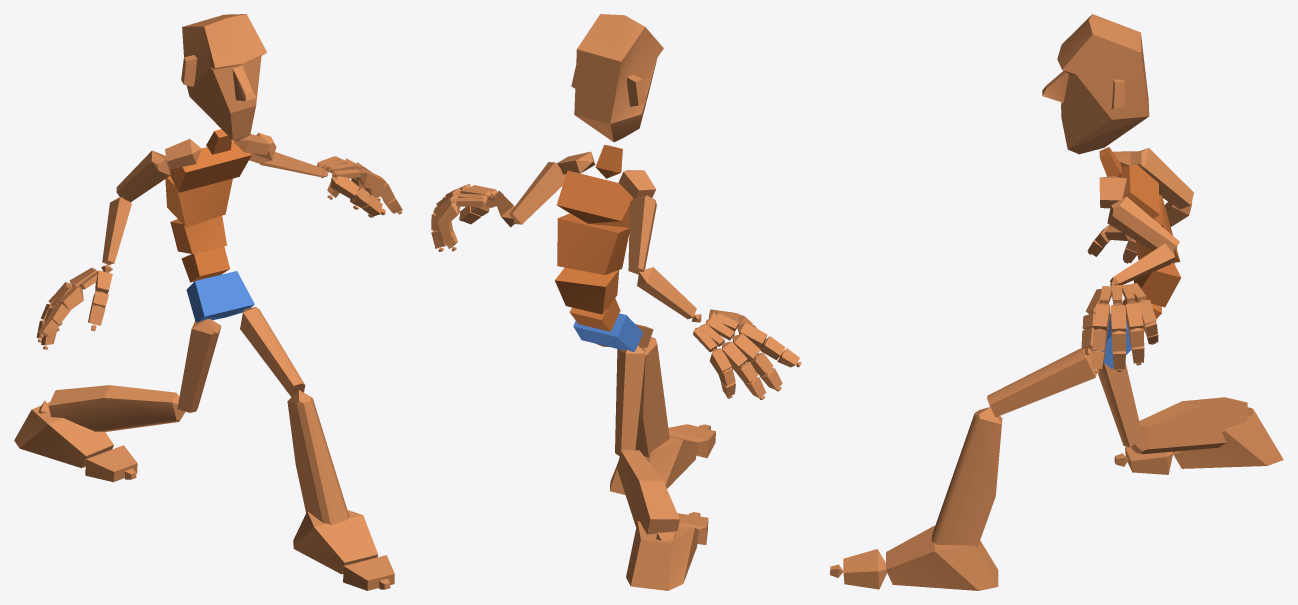
The picture shows the model from 3 angles, left to right: view 1: azimuth 30°, elevation 25°; view 2: azimuth 150°, elevation 25°; view 3: azimuth 270°, elevation 25°; orthographic projection. The views are drawn at different scales.
Parts seen in each view (by area): view 1: BOPED_Head, BOPED_R_leg, BOPED_L_leg, BOPED_R_foot, BOPED_R_foot01, Bone01, BOPED_R_legup, BOPED_L_legup, Bone04, Bone05, Bone03, BOPED_R_arm_upper (+7 smaller); view 2: BOPED_Head, BOPED_R_foot, Bone04, BOPED_R_leg, Bone05, BOPED_L_leg, BOPED_R_legup, Bone03, BOPED_R_foot01, BOPED_R_arm_upper, BOPED_L_arm_upper, Bone01 (+7 smaller); view 3: BOPED_Head, BOPED_L_leg, BOPED_R_foot01, BOPED_R_leg, BOPED_L_legup, BOPED_R_foot, BOPED_R_legup, BOPED_L_arm_upper, BOPED_R_arm_upper, BOPED_R_foot_toe04, Bone05, Bone03 (+3 smaller).
Boxes of the visible parts, x1,y1,x2,y2 form: BOPED_Head: (181,14,266,141); BOPED_R_leg: (48,385,185,431); BOPED_L_leg: (287,390,349,524); BOPED_R_foot: (14,402,113,468); BOPED_R_foot01: (293,510,378,574); Bone01: (186,271,254,322); BOPED_R_legup: (177,319,221,412); BOPED_L_legup: (240,307,305,397); Bone04: (165,176,232,227); Bone05: (170,140,251,192); Bone03: (170,216,226,253); BOPED_R_arm_upper: (116,150,170,202); BOPED_Head: (571,14,663,142); BOPED_R_foot: (626,521,698,590); Bone04: (557,213,629,274); BOPED_R_leg: (617,450,679,534); Bone05: (556,170,635,227); BOPED_L_leg: (635,337,669,457); BOPED_R_legup: (615,345,645,455); Bone03: (555,267,619,314); BOPED_R_foot01: (610,435,698,494); BOPED_R_arm_upper: (628,195,656,274); BOPED_L_arm_upper: (509,162,566,224); Bone01: (573,313,643,352); BOPED_Head: (1042,14,1149,154); BOPED_L_leg: (931,407,1002,548); BOPED_R_foot01: (886,525,998,590); BOPED_R_leg: (1131,397,1247,454); BOPED_L_legup: (987,348,1097,417); BOPED_R_foot: (1172,408,1283,468); BOPED_R_legup: (1091,349,1142,447); BOPED_L_arm_upper: (1107,196,1179,250); BOPED_R_arm_upper: (1137,148,1193,209); BOPED_R_foot_toe04: (843,549,886,589); Bone05: (1120,164,1159,218); Bone03: (1134,263,1181,307).
Bounding box in the file's own units: 130 × 174 × 133.
